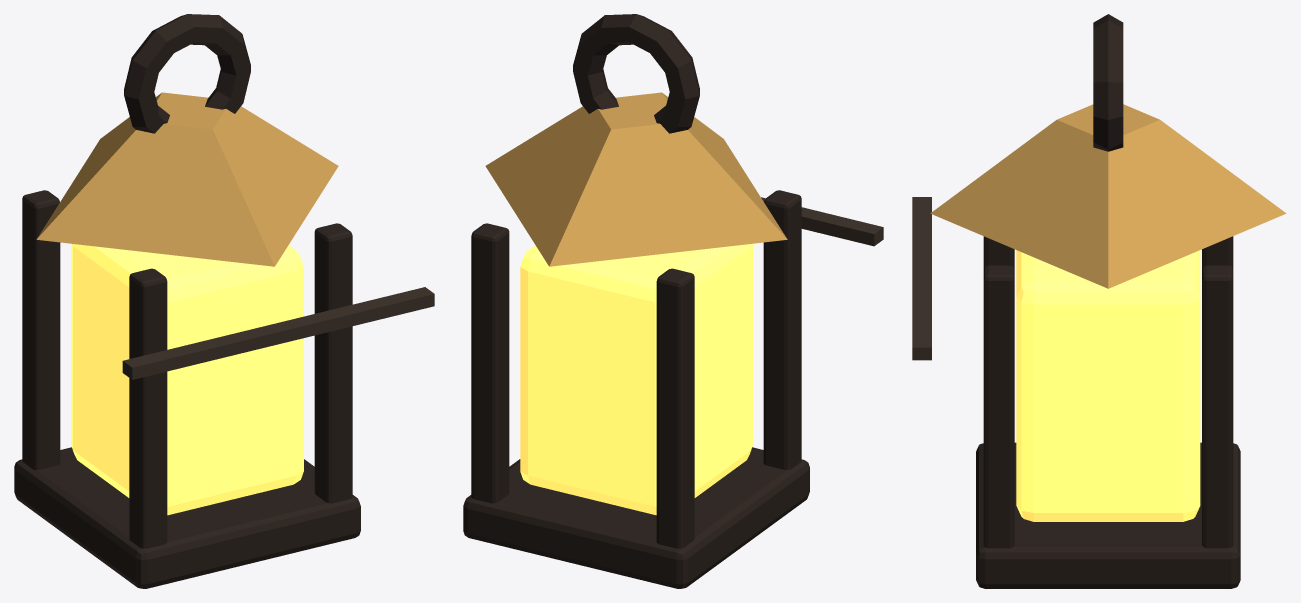
The model's file is kit_lantern.glb.
3 views of the same model, side by side, from view 1: azimuth 30°, elevation 25°; view 2: azimuth 150°, elevation 25°; view 3: azimuth 270°, elevation 25° (orthographic). The views are drawn at different scales.
Parts seen in each view (by area): view 1: Lantern amber glass, Lantern roof, Lantern bottom, Lantern corner.001, Lantern corner, Lantern corner.002, Lantern hanger, Woodland worn prop binding.001; view 2: Lantern amber glass, Lantern roof, Lantern bottom, Lantern corner.001, Lantern corner.003, Lantern corner, Lantern hanger, Woodland worn prop binding.001; view 3: Lantern amber glass, Lantern roof, Lantern bottom, Lantern corner.003, Lantern corner.002, Lantern hanger, Woodland worn prop binding.001, Lantern corner.001, Lantern corner.
Boxes of the visible parts, left/top/right/bottom form: Lantern amber glass: left=71, top=243, right=303, bottom=515; Lantern roof: left=36, top=92, right=338, bottom=266; Lantern bottom: left=14, top=447, right=360, bottom=588; Lantern corner.001: left=22, top=190, right=60, bottom=469; Lantern corner: left=129, top=268, right=167, bottom=548; Lantern corner.002: left=314, top=223, right=352, bottom=503; Lantern hanger: left=124, top=14, right=250, bottom=133; Woodland worn prop binding.001: left=122, top=287, right=434, bottom=379; Lantern amber glass: left=520, top=243, right=752, bottom=515; Lantern roof: left=485, top=92, right=787, bottom=266; Lantern bottom: left=463, top=447, right=809, bottom=588; Lantern corner.001: left=656, top=268, right=694, bottom=548; Lantern corner.003: left=471, top=223, right=509, bottom=503; Lantern corner: left=763, top=190, right=801, bottom=469; Lantern hanger: left=573, top=14, right=699, bottom=133; Woodland worn prop binding.001: left=761, top=197, right=883, bottom=246; Lantern amber glass: left=1016, top=250, right=1200, bottom=521; Lantern roof: left=930, top=104, right=1286, bottom=288; Lantern bottom: left=976, top=442, right=1240, bottom=588; Lantern corner.003: left=1202, top=265, right=1233, bottom=548; Lantern corner.002: left=983, top=265, right=1014, bottom=548; Lantern hanger: left=1093, top=14, right=1123, bottom=151; Woodland worn prop binding.001: left=912, top=197, right=931, bottom=360; Lantern corner.001: left=1202, top=236, right=1233, bottom=269; Lantern corner: left=983, top=236, right=1014, bottom=268.
Size of the model in its own units: 0.31 by 0.495 by 0.3255.
